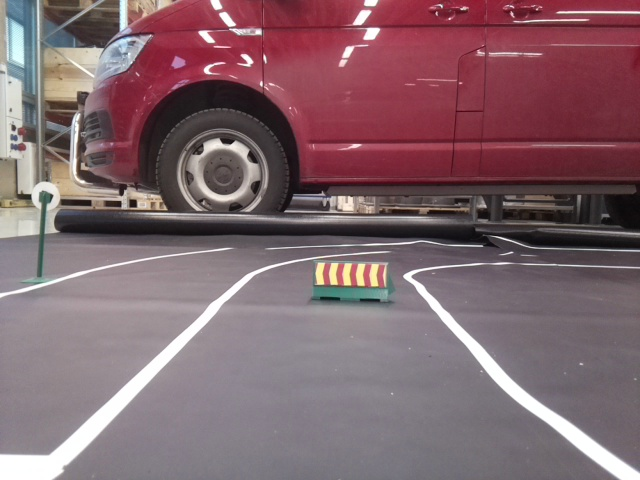ClosedRoadStand: (313, 257, 386, 301)
